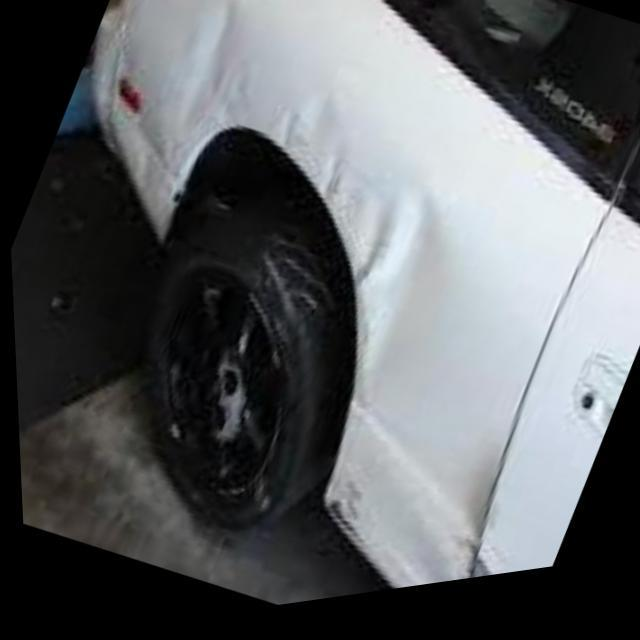dent: (269, 94, 455, 397), (90, 0, 266, 228)
rub: (436, 446, 510, 594), (314, 469, 364, 546)
